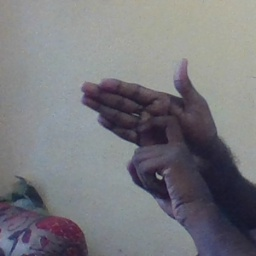R: (71, 55, 214, 195)
